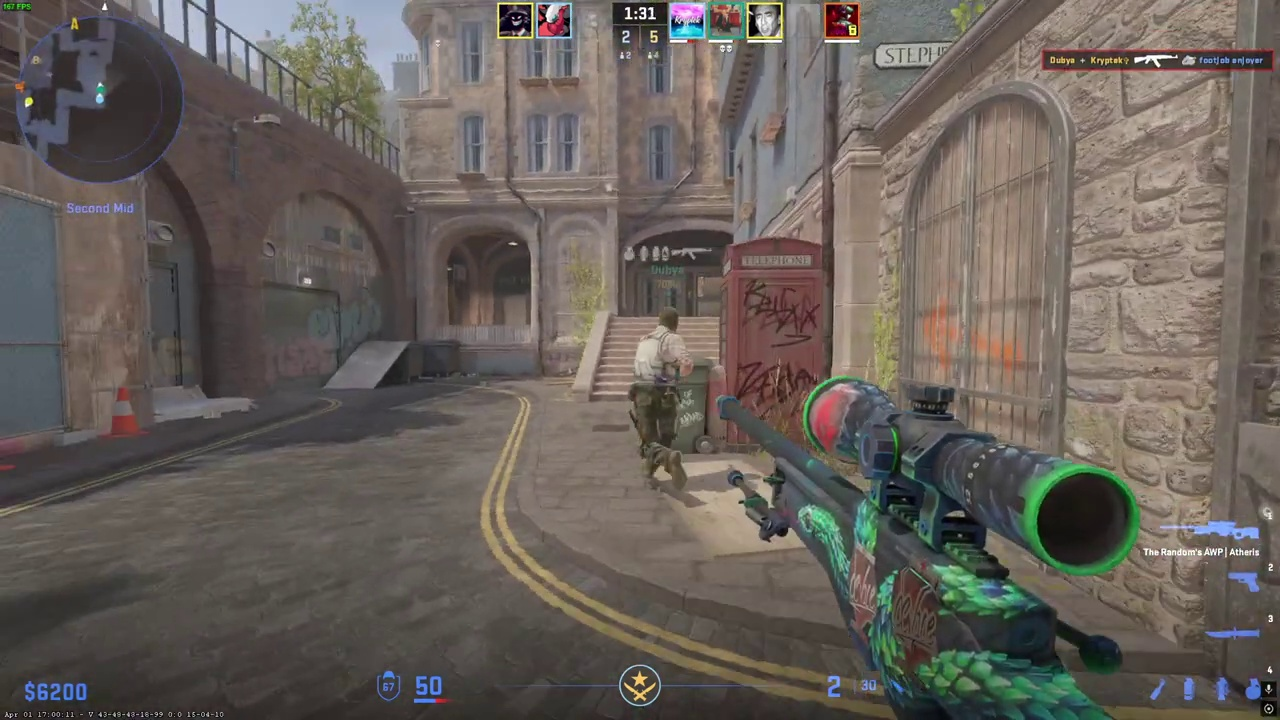Terrorist: (627, 307, 694, 491)
